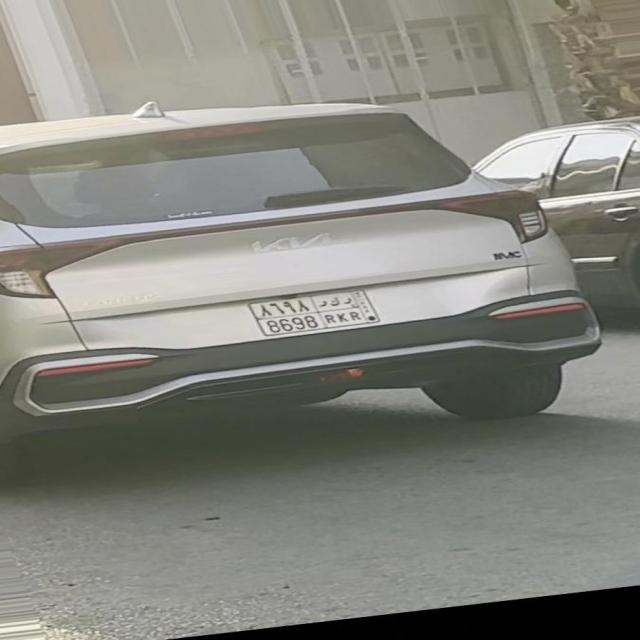Car-plate: (234, 277, 396, 345)
